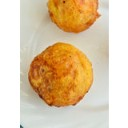bonda: (28, 42, 94, 107), (47, 1, 103, 31)
